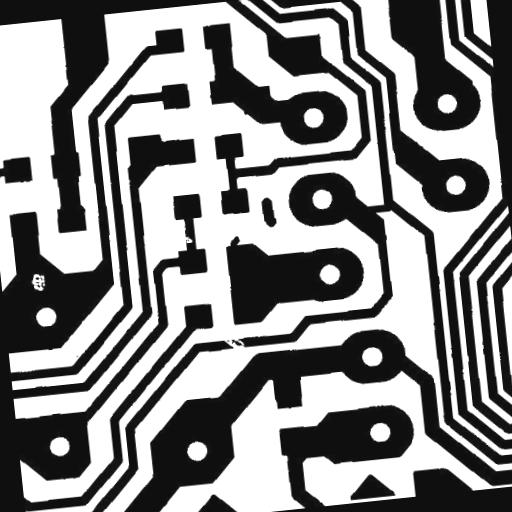copper: (252, 188, 285, 236)
mousebite: (172, 226, 200, 252)
open: (210, 321, 253, 360)
pin-hole: (22, 264, 54, 300)
short: (355, 195, 400, 222)
spur: (221, 227, 249, 256)
